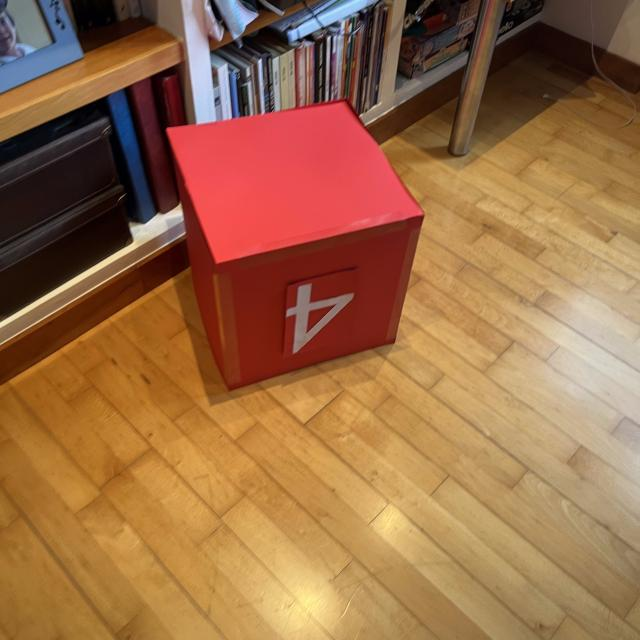box: (164, 96, 426, 391)
